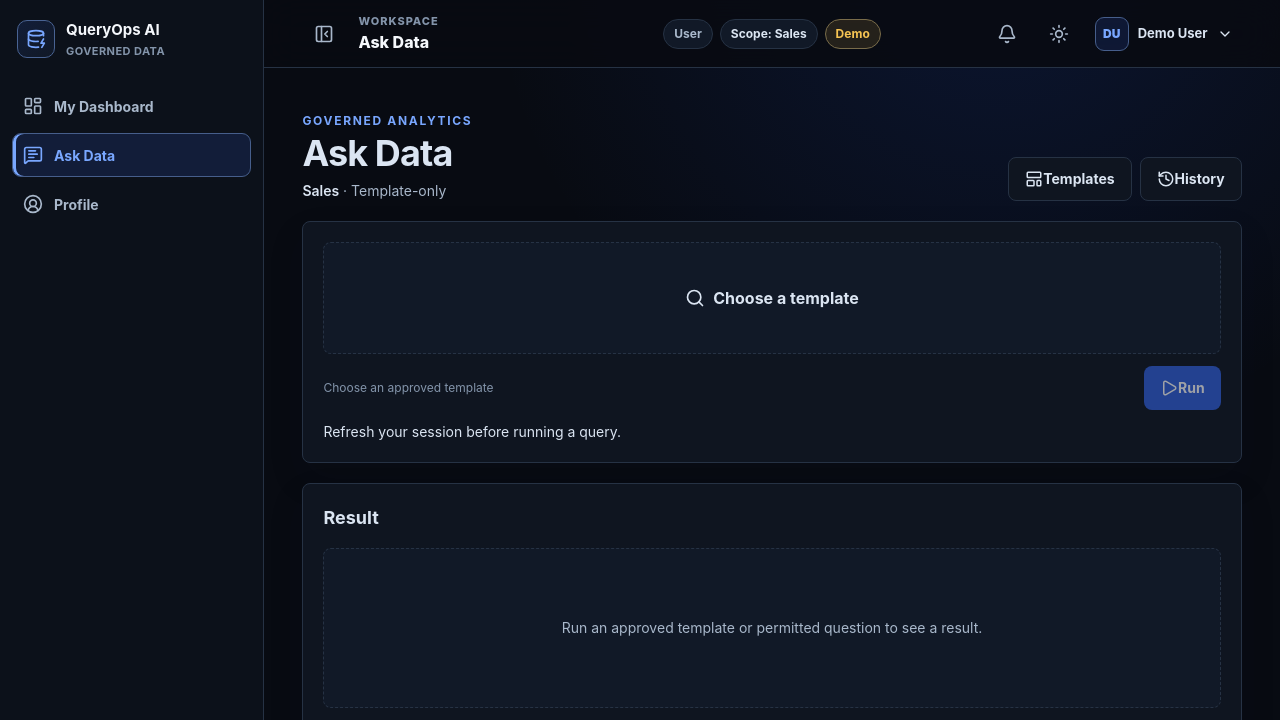
Scenario: App › loads only five own-history items without SQL and safely disables an unavailable template
Click the button "History": [1191, 179] box x1=1140 y1=157 x2=1242 y2=201
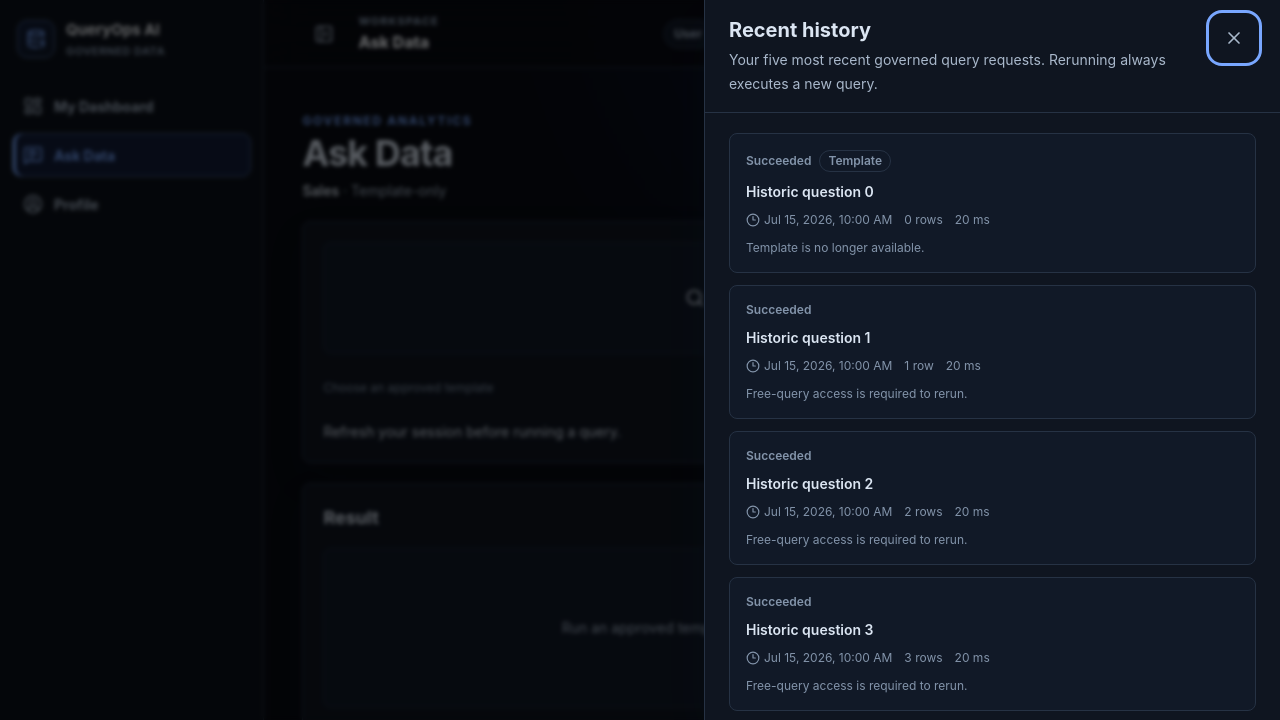
Now the text "Historic question 0" is shown 5 times
Now the text "Template is no longer available." is shown, box x1=746 y1=240 x2=924 y2=256
